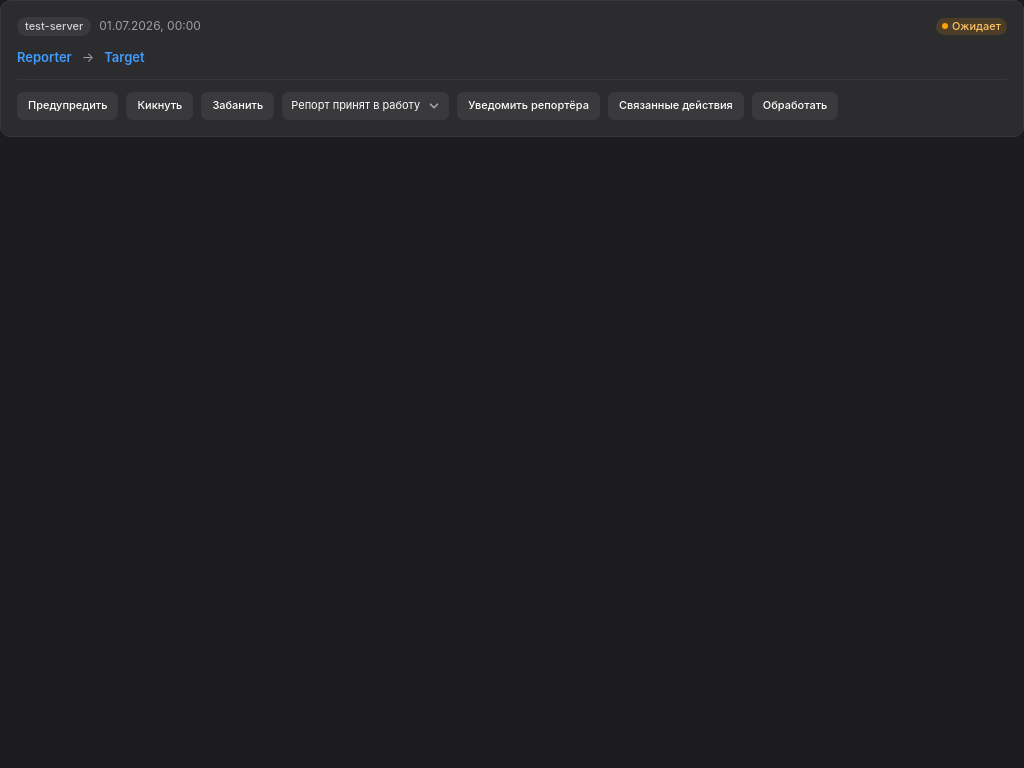
Scenario: ReportCard › rejects an empty reason before any request is sent
What coordinates should you click on to do the following:
click the button "Предупредить"
I would click on:
 (68, 106)
Its box is [17,92,118,120].
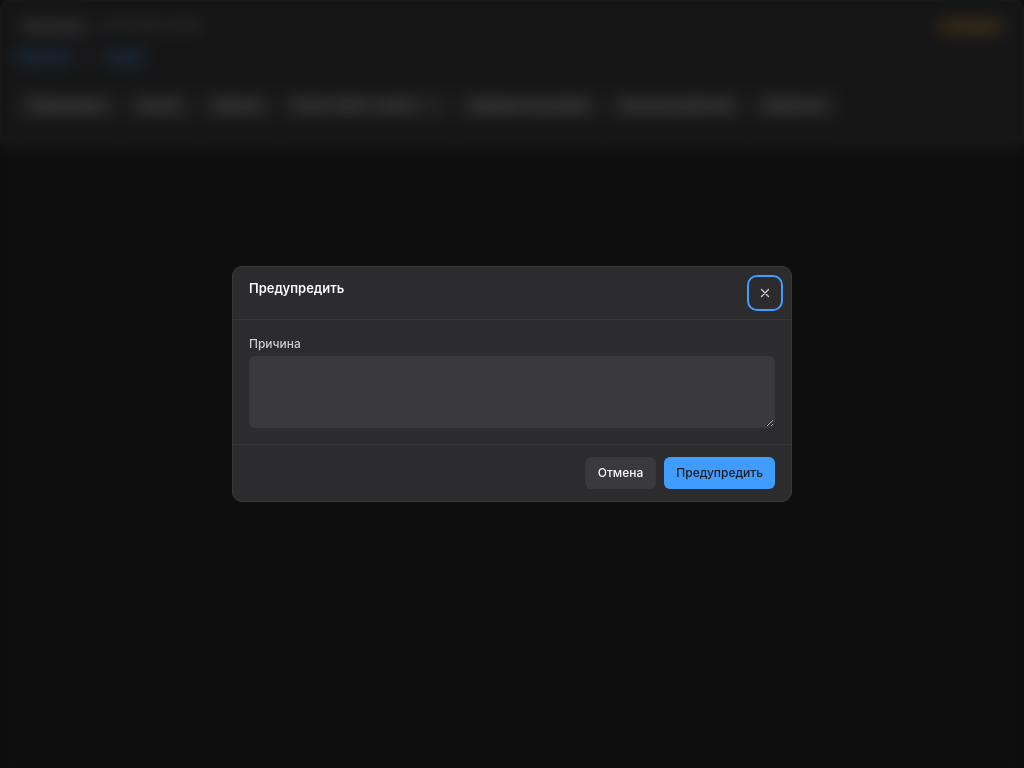
What coordinates should you click on to do the following:
click the button "Предупредить"
I would click on:
 (720, 473)
Its box is [664,457,775,489].
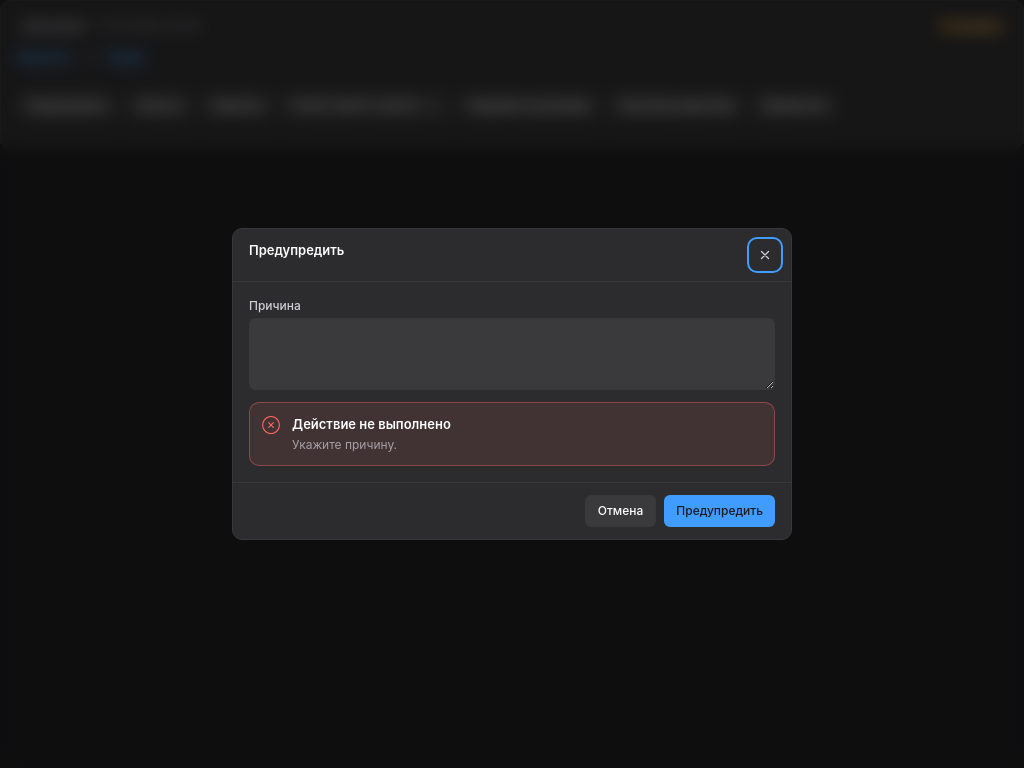
Expected: the text "Укажите причину." is shown, [292,437,397,452]
